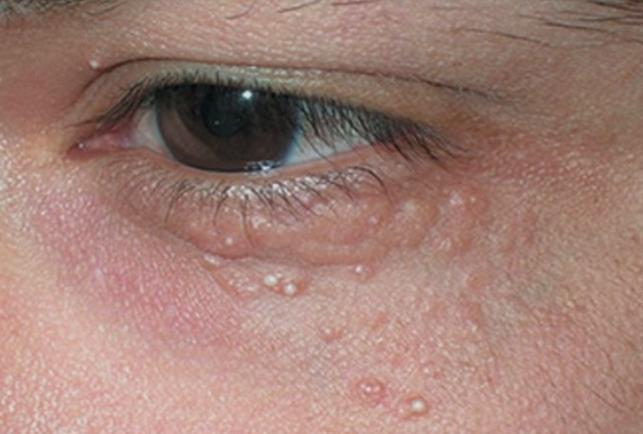milium: (392, 381, 466, 434), (256, 272, 335, 312), (347, 386, 401, 412), (192, 242, 248, 267)
syringoma: (428, 196, 524, 263), (351, 198, 440, 249), (229, 208, 322, 246)
